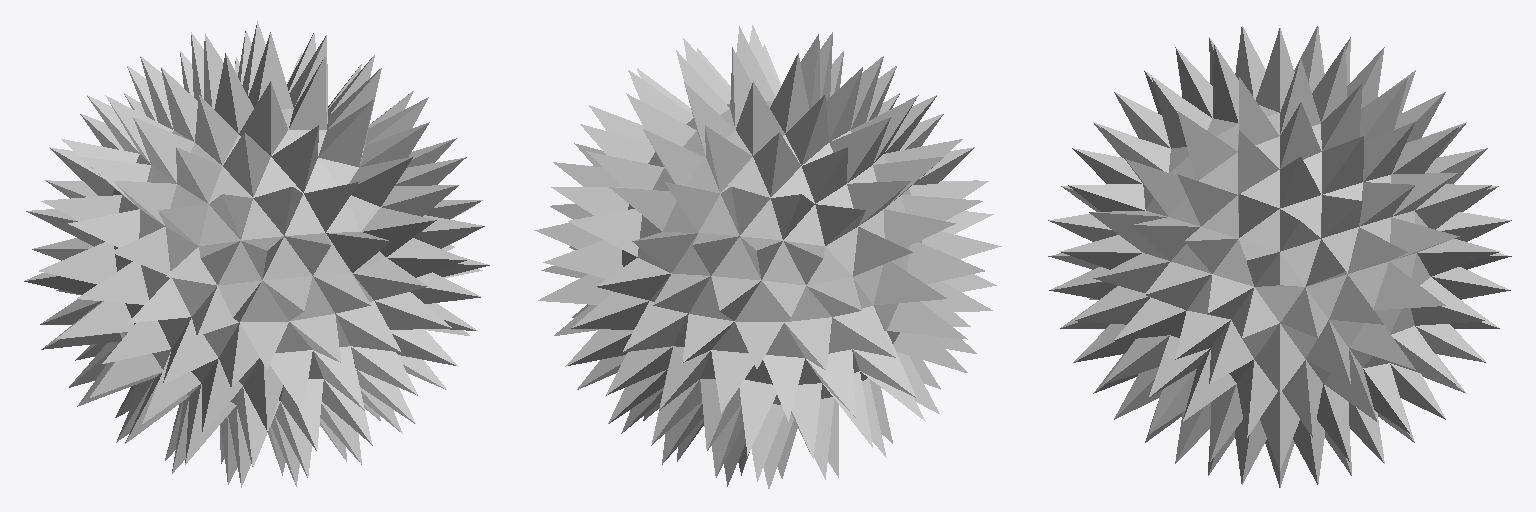
Rendered from spikedball.obj.
3 views of the same model, side by side, from view 1: azimuth 30°, elevation 25°; view 2: azimuth 150°, elevation 25°; view 3: azimuth 270°, elevation 25° (orthographic).
Visible parts, largest first — view 1: Icosphere; view 2: Icosphere; view 3: Icosphere.
Part boxes in pixels (x1,y1,x2,y2): Icosphere: (24, 21, 489, 487); Icosphere: (534, 25, 1001, 488); Icosphere: (1048, 26, 1511, 487).
Size of the model in its own units: 2.93 by 2.94 by 2.94.